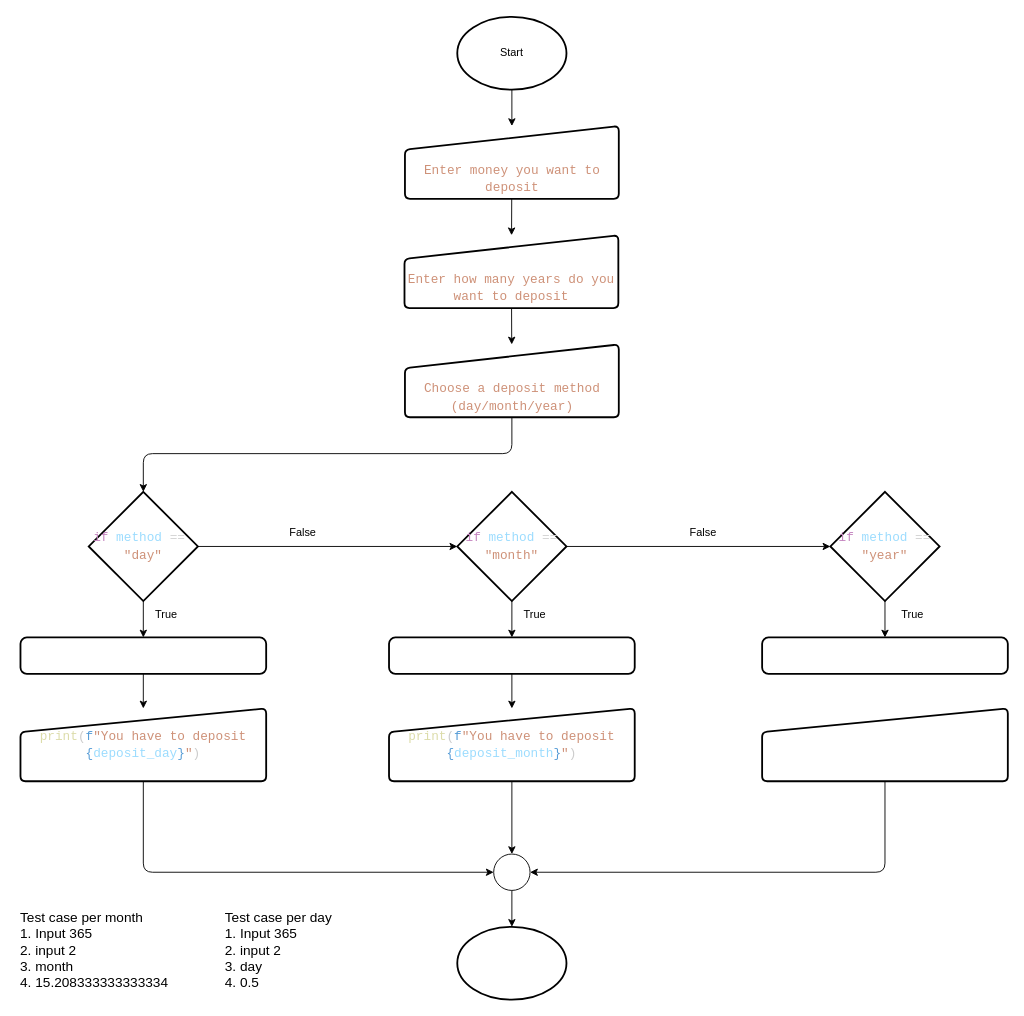
Some shapes in this 1024 by 1016 pixel diagram are drawn without their labels. Here are the shapes that lost their labels. From the top down, the centre of each, then its label:
[143,655]: deposit_day = money / ( year * 365 )
[511,655]: deposit_day = money / ( year * 12 )
[884,655]: deposit_day = money / year
[884,744]: print ( f "You have to deposit { deposit_year } " )
[511,962]: Stop
